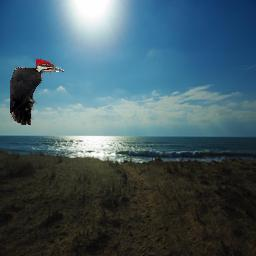Woodpecker: (10, 59, 64, 126)
